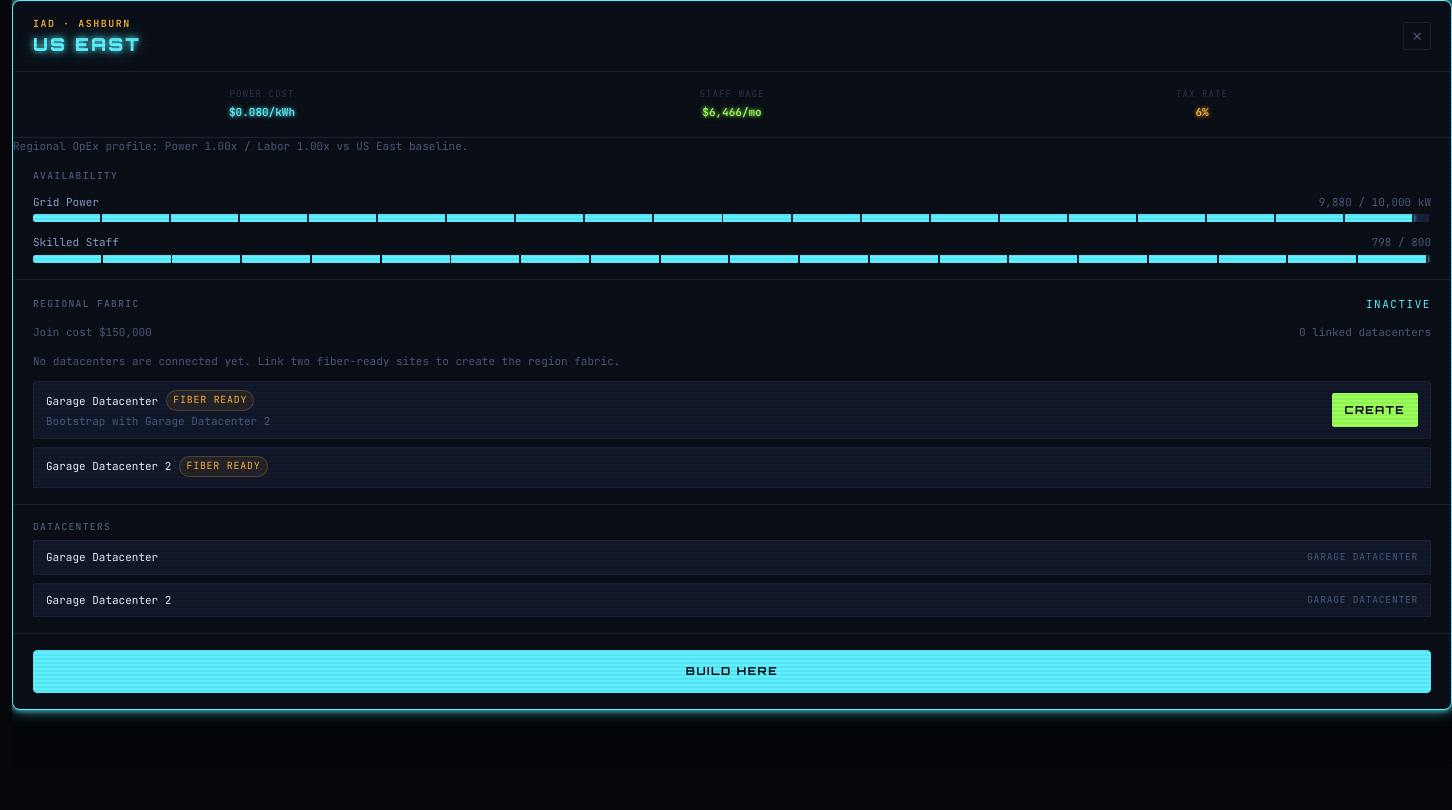
RegionPanel › creates a regional fabric from the region panel when two fiber-ready datacenters are available
Click the button with aria-label "Create fabric with Garage Datacenter and Garage Datacenter" at (1375, 410), box [1332, 393, 1418, 427]
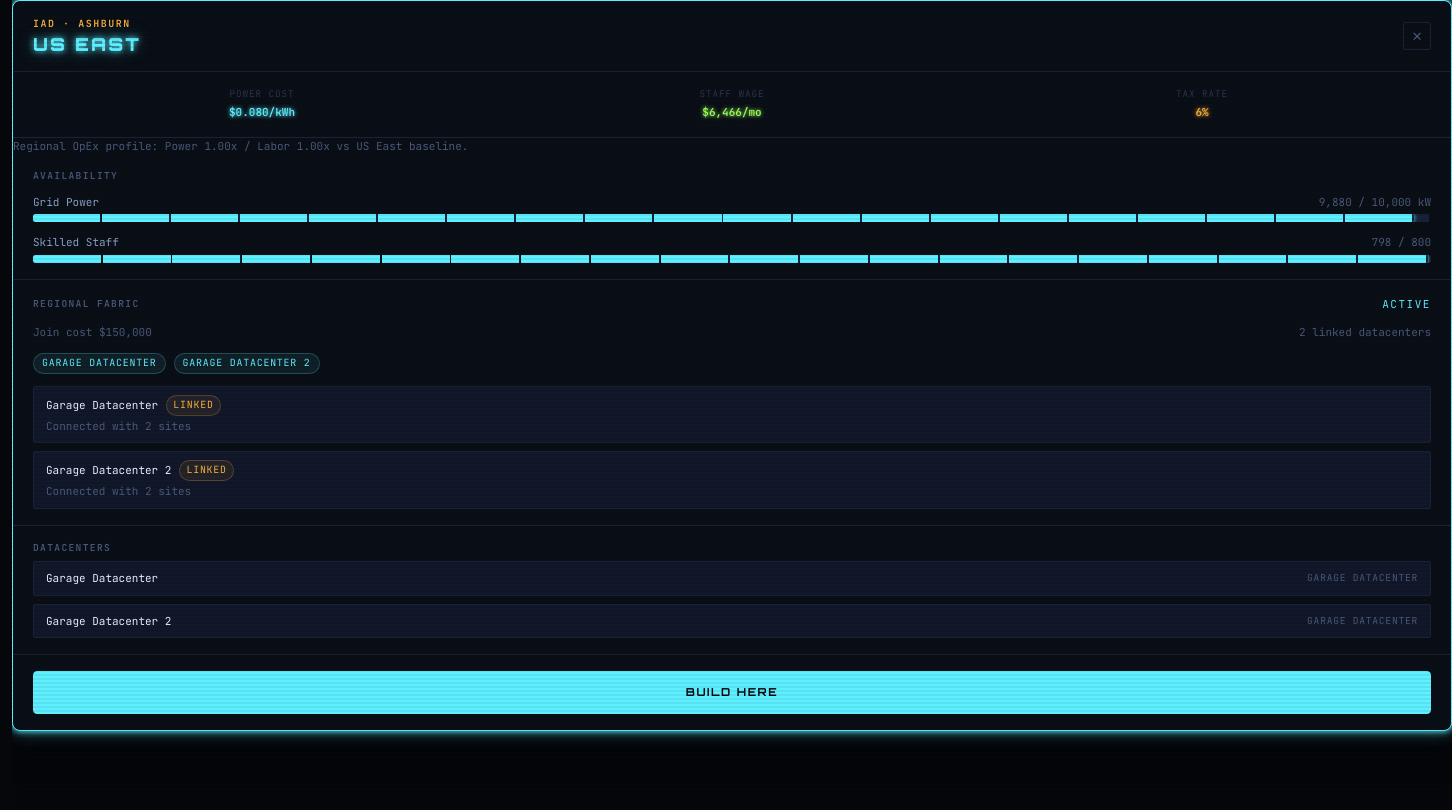
expect the text "ACTIVE" is shown: met, box [1382, 296, 1431, 312]
expect the text "2 linked datacenters" is shown: met, box [1299, 324, 1431, 341]
expect the 1st text "LINKED" is shown: met, box [166, 395, 221, 416]
